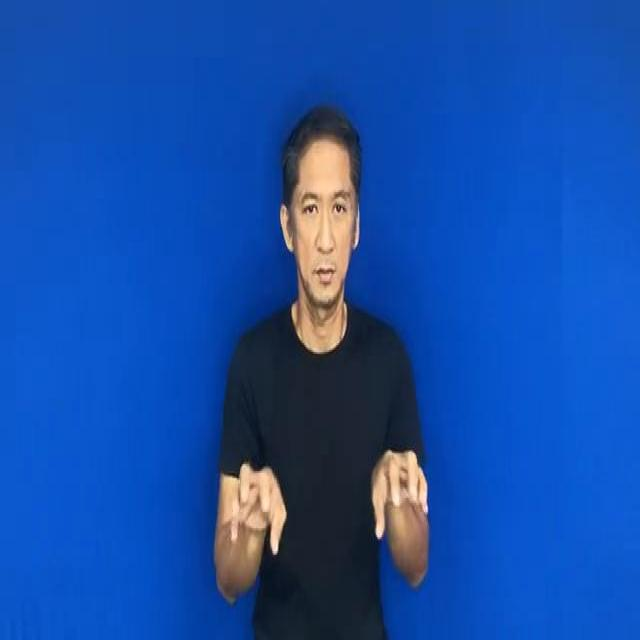egg: (194, 442, 438, 554)
